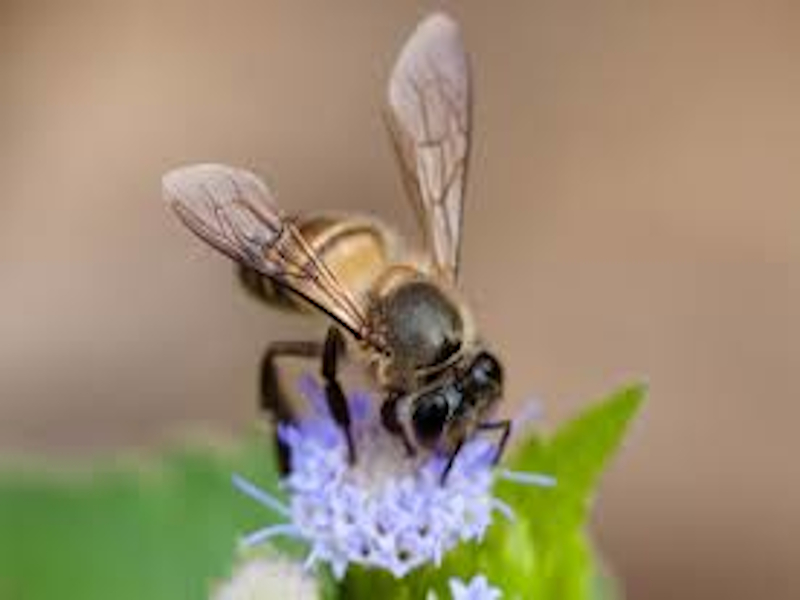abeja: (154, 10, 566, 494)
